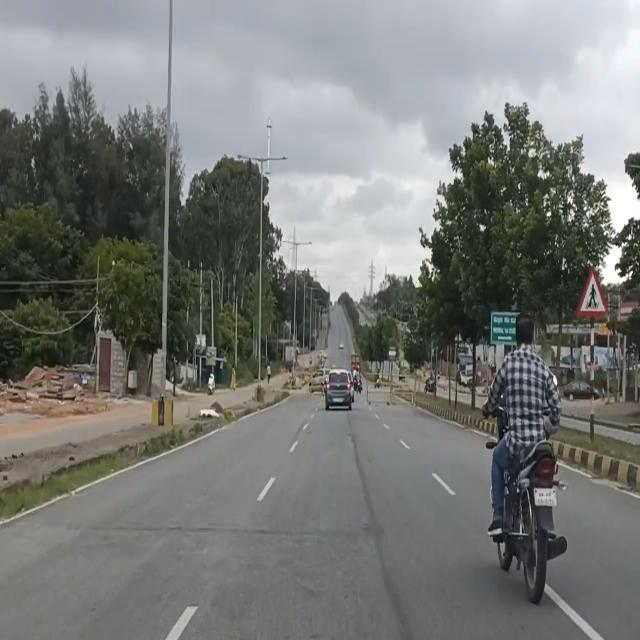bien_cam: (576, 267, 608, 316)
